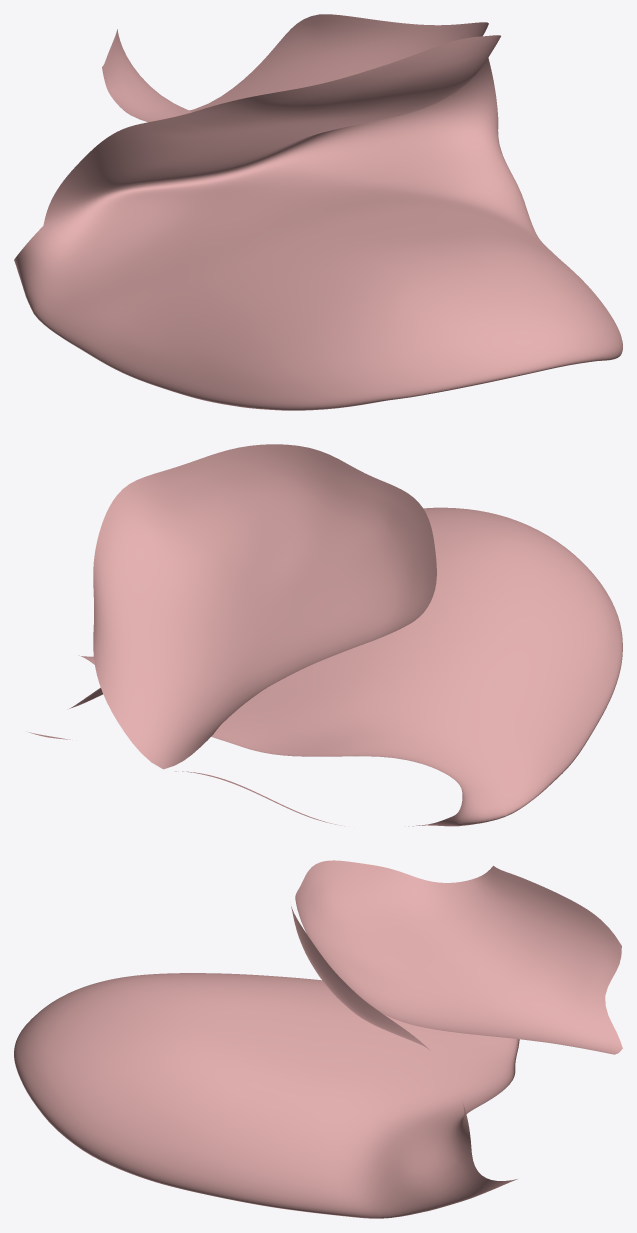
File: frau2-445.glb
3 views of the same model, one above another, from view 1: azimuth 30°, elevation 25°; view 2: azimuth 150°, elevation 25°; view 3: azimuth 270°, elevation 25° (orthographic). The views are drawn at different scales.
Visible parts, largest first — view 1: VH_F_uterovesical_pouch; view 2: VH_F_uterovesical_pouch; view 3: VH_F_uterovesical_pouch.
Part boxes in pixels (x1,y1,x2,y2): VH_F_uterovesical_pouch: [14, 14, 622, 410]; VH_F_uterovesical_pouch: [28, 444, 622, 826]; VH_F_uterovesical_pouch: [14, 860, 622, 1218].
Size of the model in its own units: 0.0518 by 0.0277 by 0.0641.
